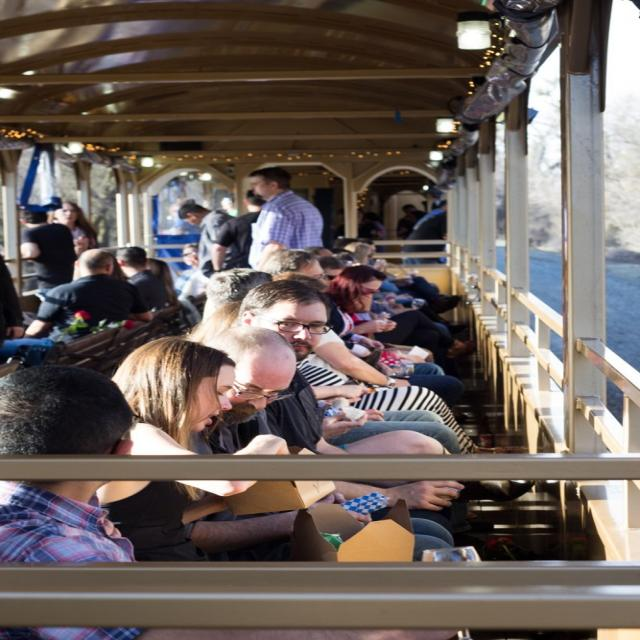body: (0, 361, 469, 640), (182, 263, 536, 466), (182, 323, 468, 538), (236, 278, 467, 512), (87, 336, 296, 564), (0, 247, 154, 366), (308, 322, 462, 410), (324, 264, 441, 366), (256, 236, 385, 323), (246, 163, 325, 274), (14, 206, 78, 300), (384, 258, 478, 322), (208, 188, 271, 274), (143, 243, 208, 326), (175, 201, 238, 274), (0, 250, 35, 338), (401, 201, 448, 264), (50, 200, 101, 250), (330, 207, 385, 237), (411, 199, 448, 230), (395, 203, 428, 233), (218, 192, 237, 215)
